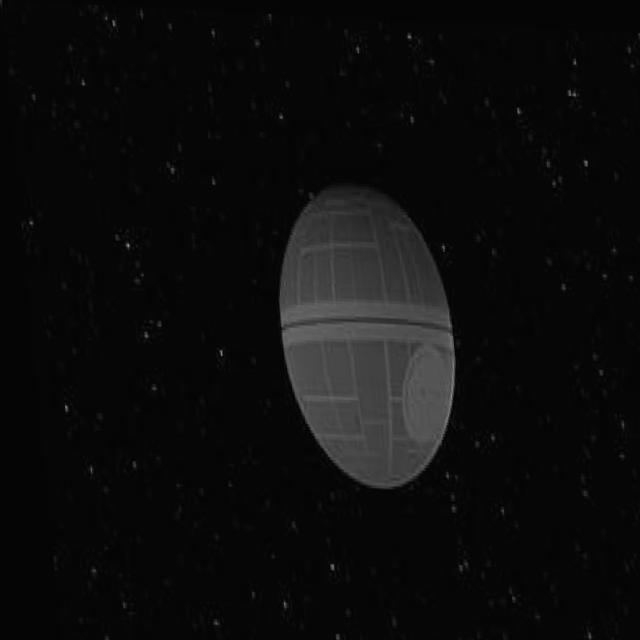deathStar: (261, 177, 452, 491)
